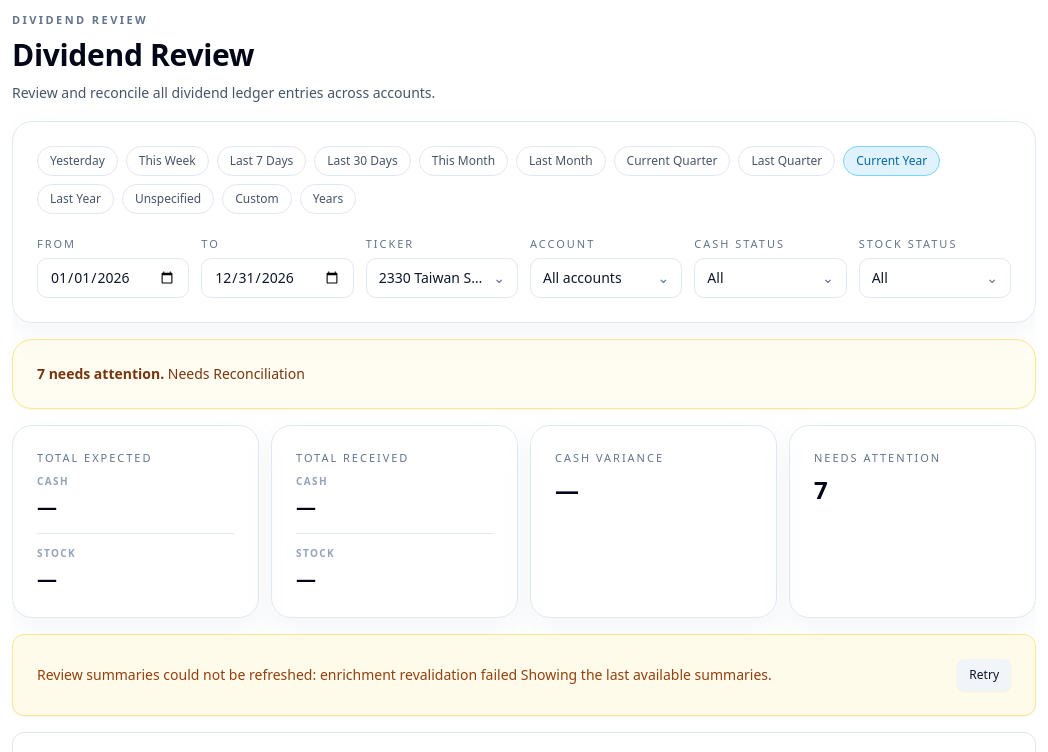
Scenario: DividendReviewClient › keeps stale enrichment visibly retryable without disabling primary and clears the error after retry
This screenshot has width=1048, height=752.
Expected: the message with test id "review-enrichment-error" shows "Showing the last available summaries.", [517,665,772,684]
Click the button with test id "review-enrichment-retry".
click(984, 675)  # box [957,659,1011,691]
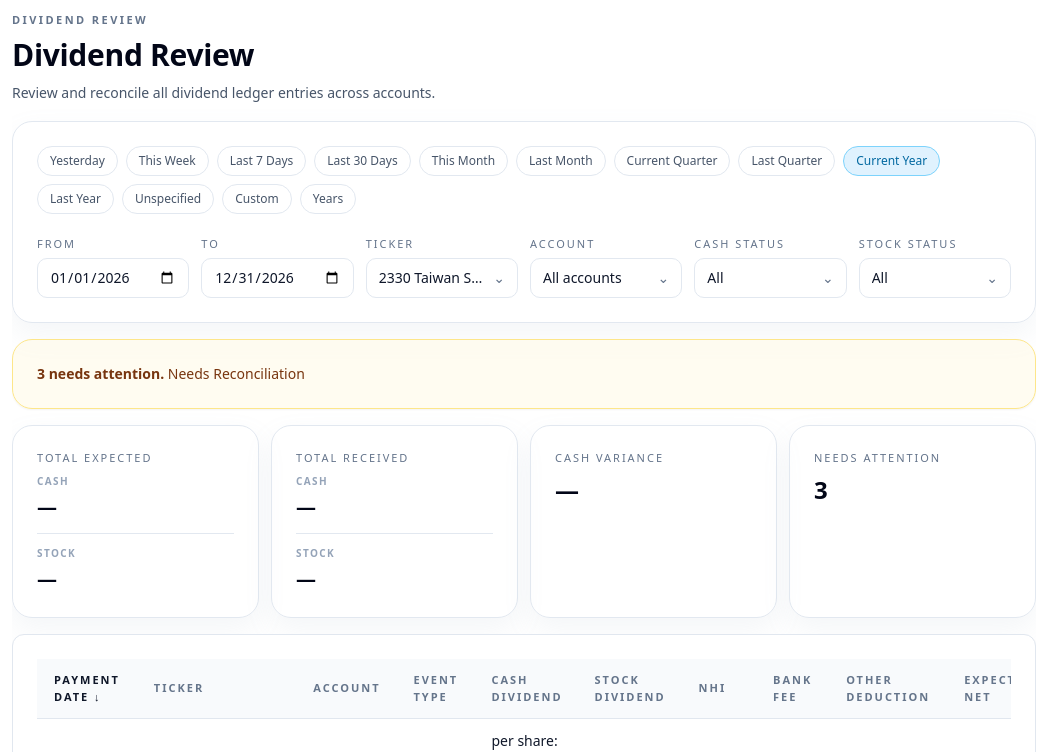
Expected: the text "3" is shown, [314,146,411,176]
Expected: the message with test id "review-enrichment-error" is gone
